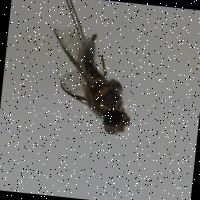Oriental-fruit-fly: (36, 20, 144, 138)
